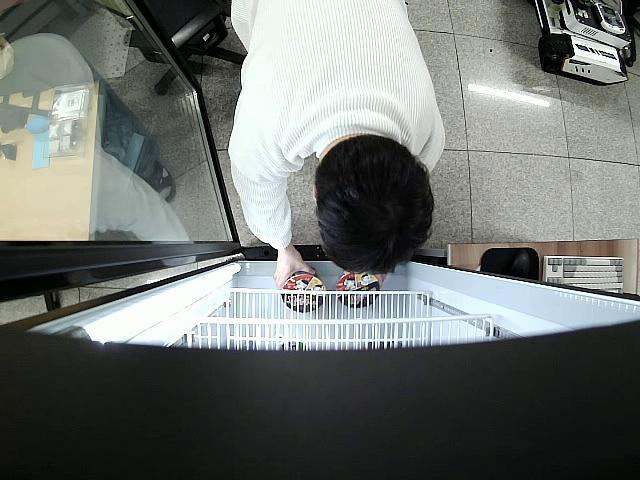07_buldak_L: (282, 270, 324, 312)
